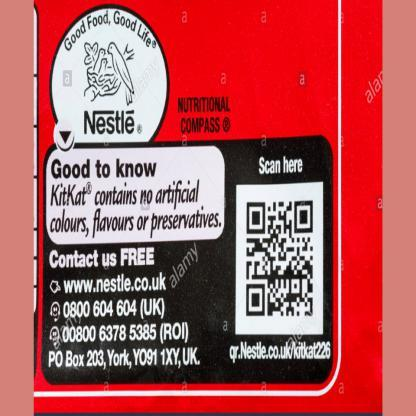qr_code: (245, 200, 313, 316)
